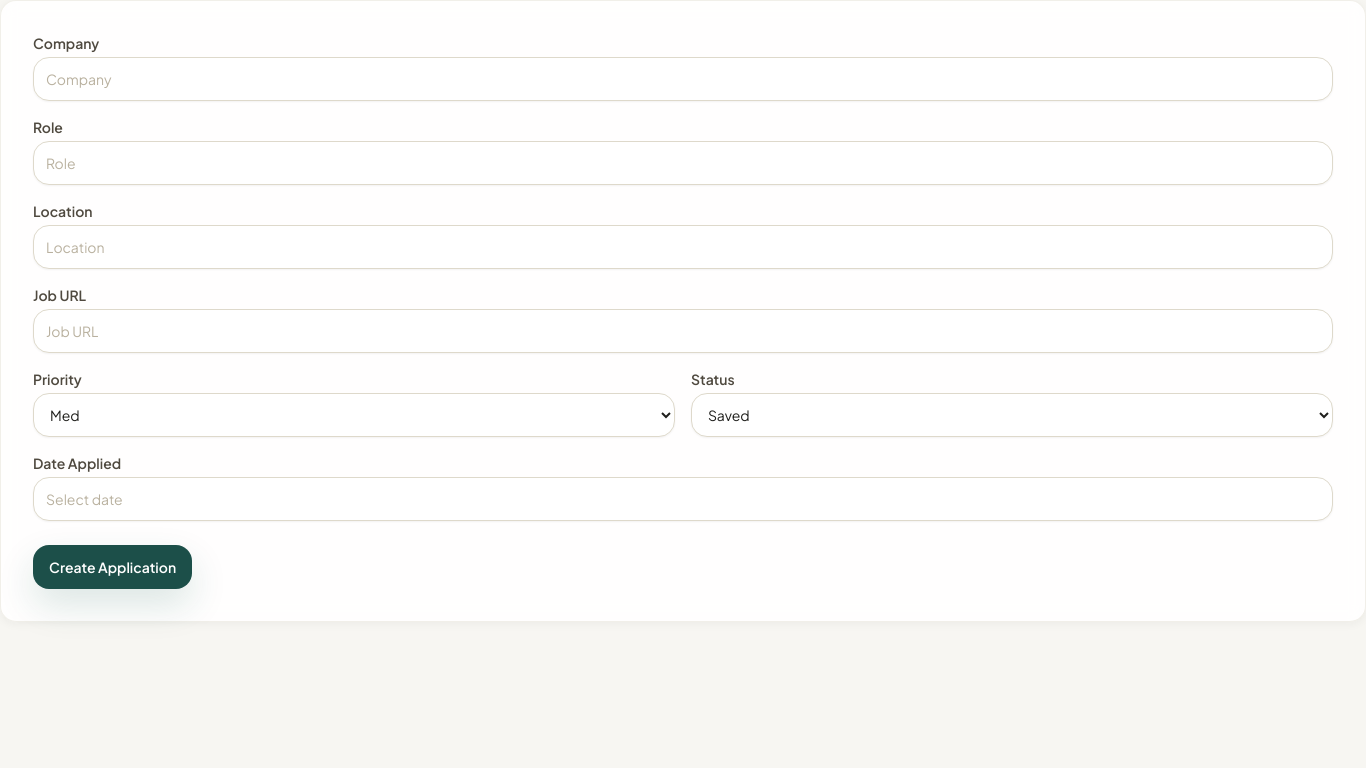
NewApplication › shows a server error that isn't about one field
Type "Acme" into the field with placeholder "Company" at (683,79), box [33,57,1333,101]
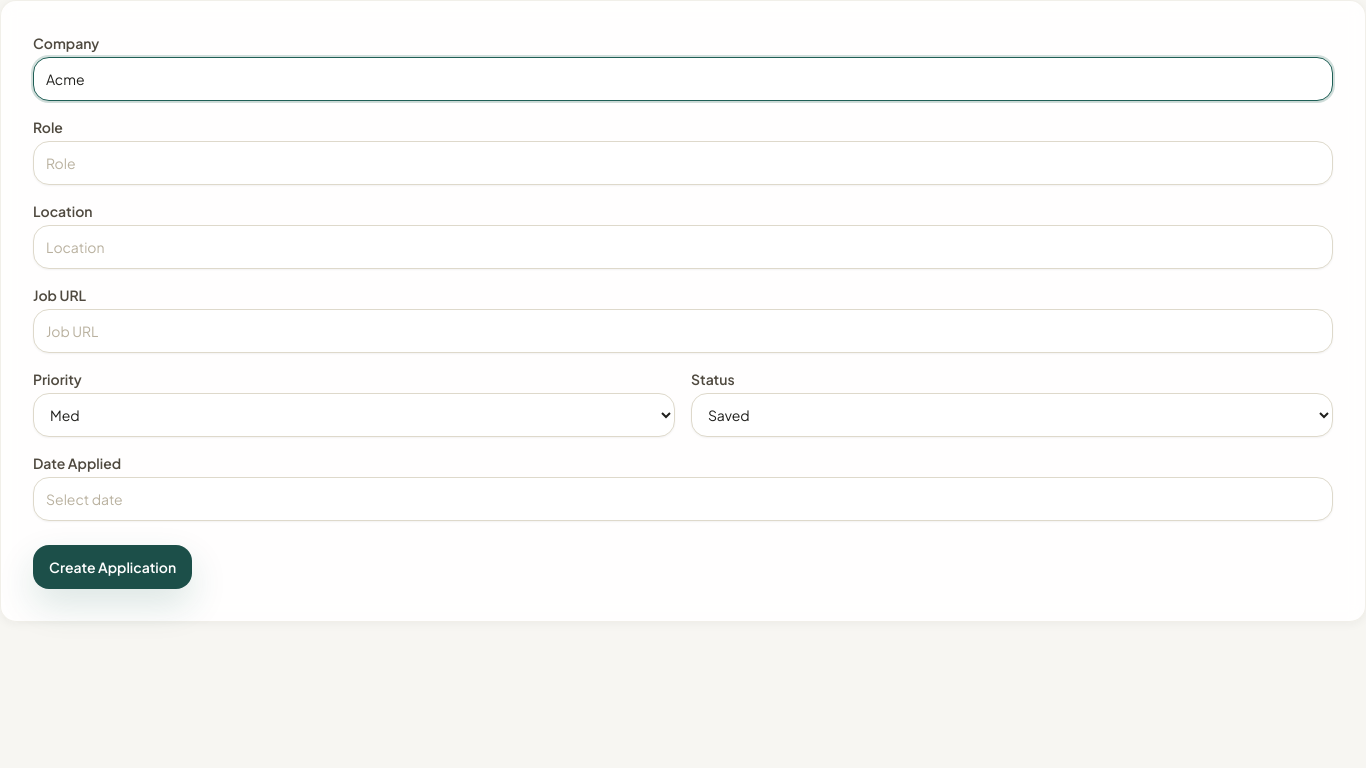
Type "Engineer" into the field with placeholder "Role" at (683,163), box [33,141,1333,185]
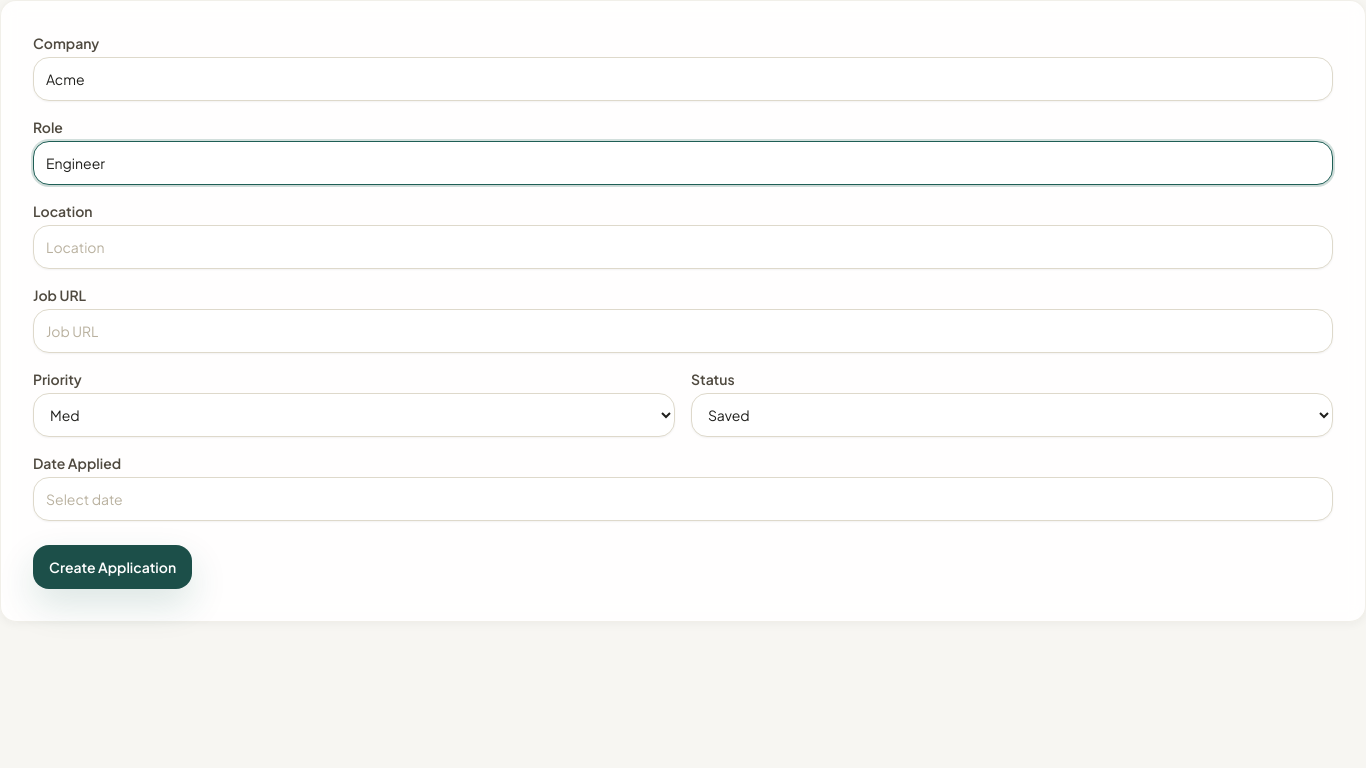
Submit the form
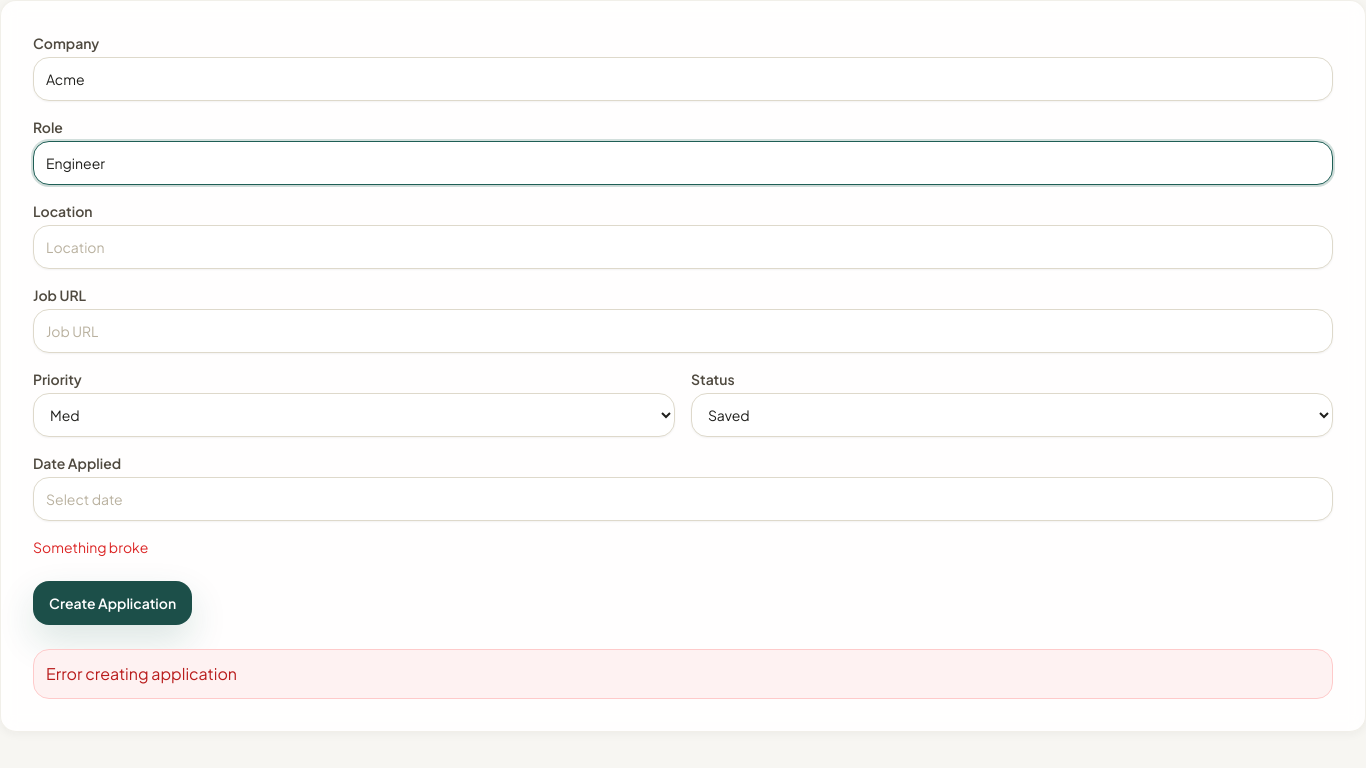
Check: the text "Something broke" is shown, box [33,538,148,556]
